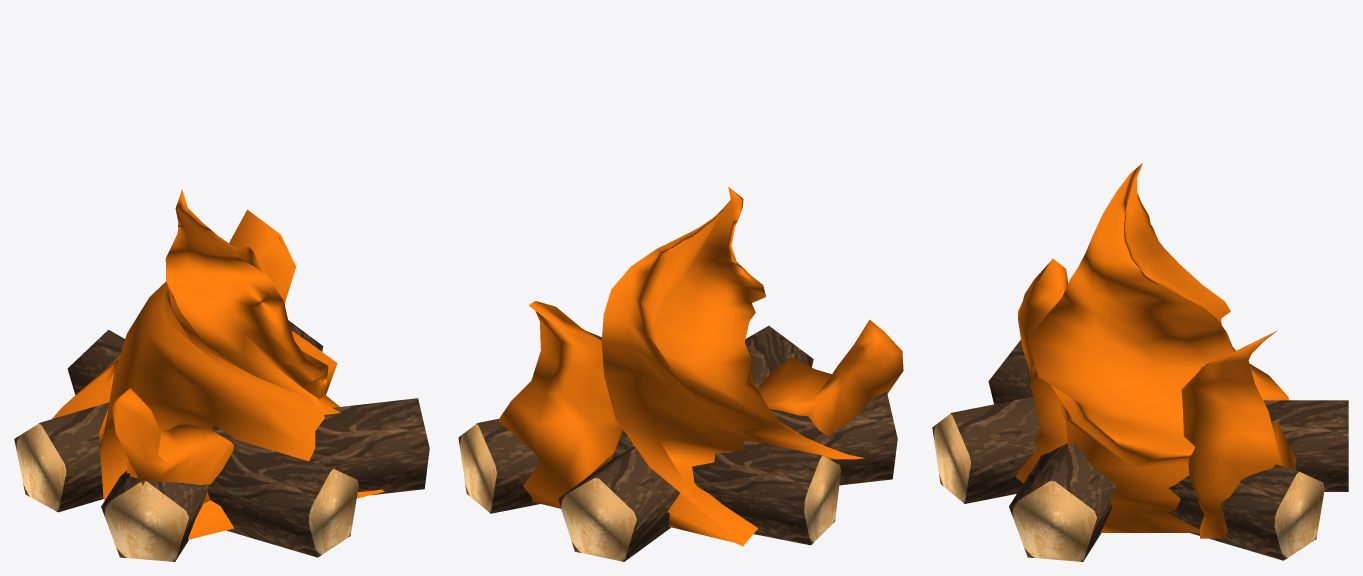
File: bonfire.FBX
3 renders of one model, left to right at view 1: azimuth 30°, elevation 25°; view 2: azimuth 150°, elevation 25°; view 3: azimuth 270°, elevation 25°, orthographic.
Parts seen in each view (by area): view 1: Pyramid004; view 2: Pyramid004; view 3: Pyramid004.
Boxes of the visible parts, x1,y1,x2,y2 form: Pyramid004: [14, 189, 429, 561]; Pyramid004: [458, 187, 903, 561]; Pyramid004: [932, 163, 1348, 561].
Bounding box in the file's own units: 39.34 × 53.62 × 42.7.
3 materials, 2 textured.
